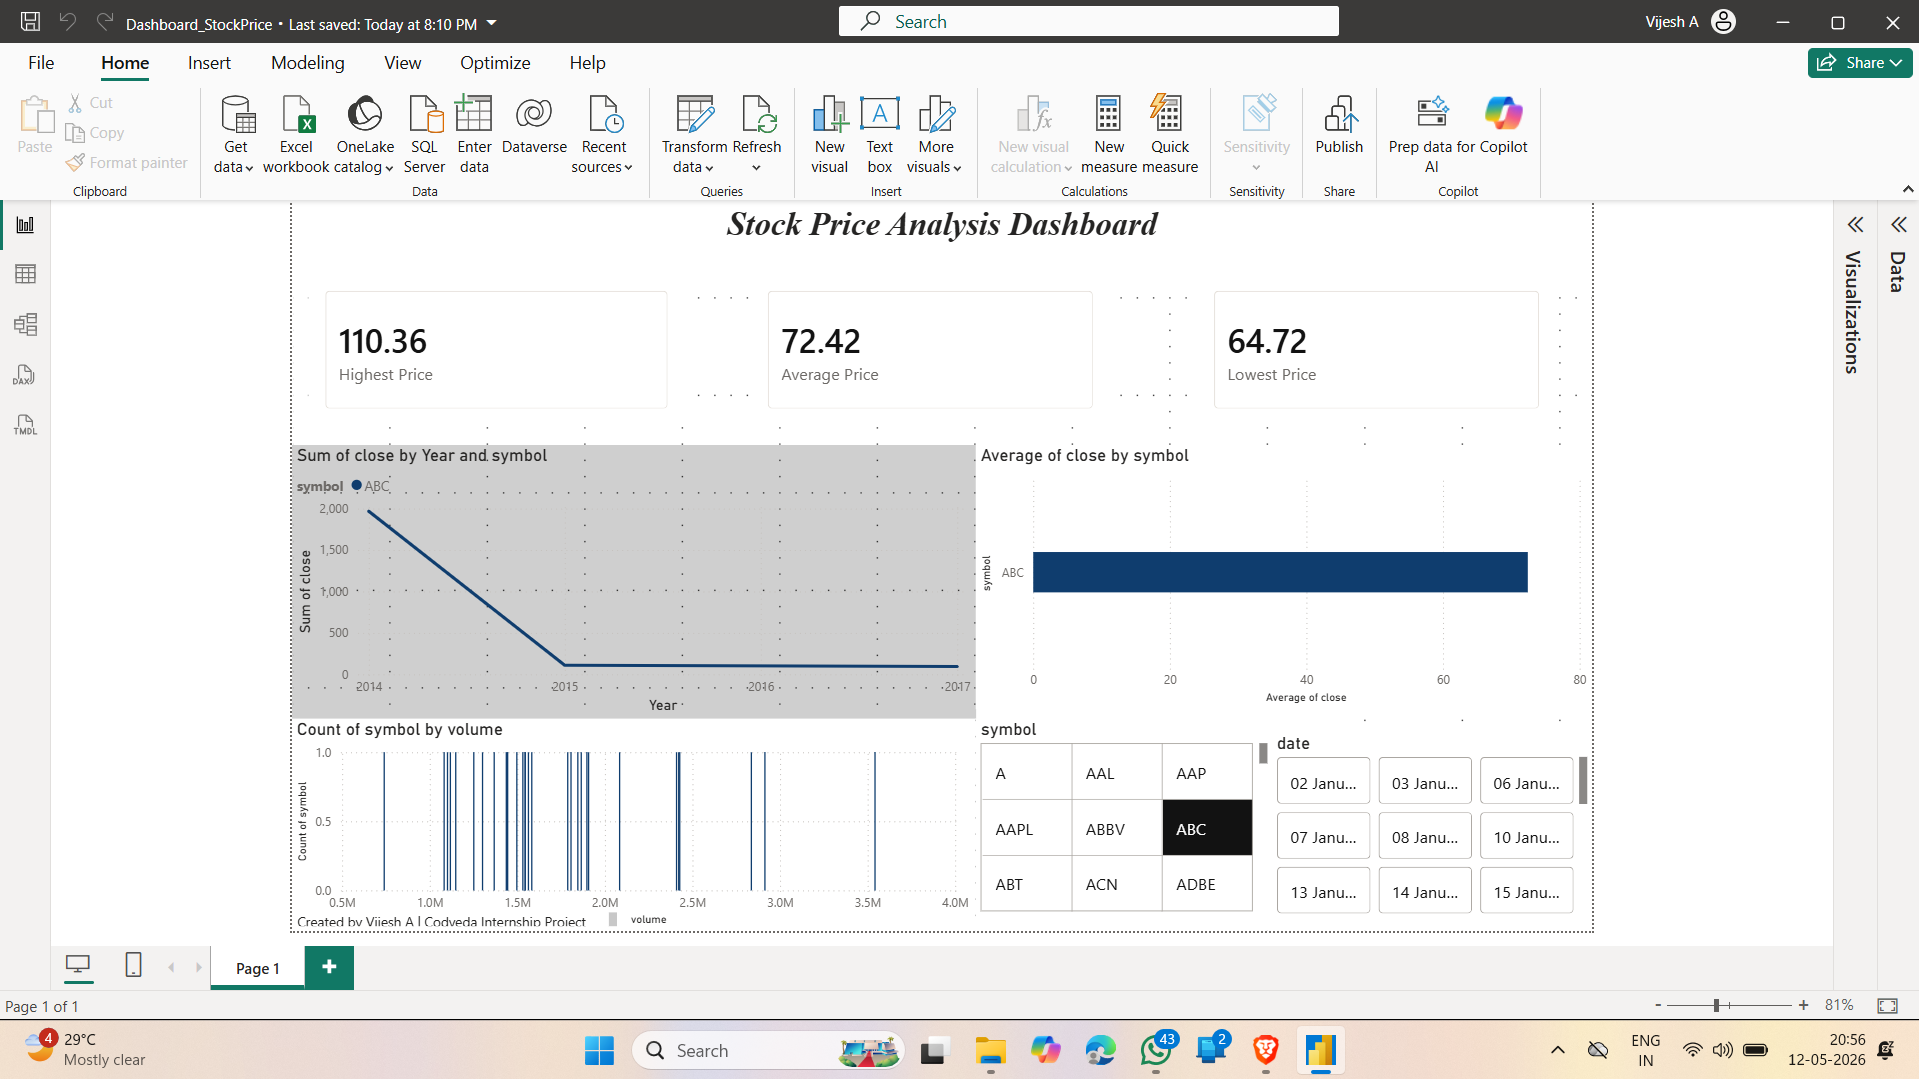

This screenshot's page, from the dashboard's own definition file:
{"tool":"powerbi","page":{"name":"Page 1","canvas":[1280,720],"ordinal":0},"visuals":[{"type":"lineChart","fields":{"Category":["Stock Prices Data Set.date.Variation.Date Hierarchy.Year","Stock Prices Data Set.date.Variation.Date Hierarchy.Quarter","Stock Prices Data Set.date.Variation.Date Hierarchy.Month","Stock Prices Data Set.date.Variation.Date Hierarchy.Day"],"Y":["Sum(Stock Prices Data Set.close)"],"Series":["Stock Prices Data Set.symbol"]},"box":[0,241.2,673.2,269.5],"z":0},{"type":"barChart","fields":{"Category":["Stock Prices Data Set.symbol"],"Y":["Avg(Stock Prices Data Set.close)"]},"box":[673.2,241.2,606.8,259.7],"z":1000},{"type":"clusteredColumnChart","fields":{"Category":["Stock Prices Data Set.volume"],"Y":["CountNonNull(Stock Prices Data Set.symbol)"]},"box":[0,511,673,209],"z":2000},{"type":"cardVisual","fields":{"Data":["Stock Prices Data Set.Highest Price"]},"box":[16,72.6,371.7,150.2],"z":3000},{"type":"cardVisual","fields":{"Data":["Stock Prices Data Set.Average Price"]},"box":[451.7,72.6,354.5,150.2],"z":4000},{"type":"cardVisual","fields":{"Data":["Stock Prices Data Set.Lowest Price"]},"box":[891.1,72.6,354.5,150.2],"z":5000},{"type":"advancedSlicerVisual","fields":{"Values":["Stock Prices Data Set.symbol"]},"box":[673,511,292,196],"z":6000},{"type":"advancedSlicerVisual","fields":{"Values":["Stock Prices Data Set.date"]},"box":[965,523.8,315,183.8],"z":7000},{"type":"textbox","box":[0,0,1280,88.8],"z":8000},{"type":"textbox","box":[0,696.2,325,23.8],"z":9000}]}

Visuals, with their boxes on the page's 1280x720 design canvas (x1, y1, x2, y2). These are canvas units, not pixel positions in the 1919x1079 screenshot, which may show the page scaled, cropped or inside an application window:
lineChart - Stock Prices Data Set.date.Variation.Date Hierarchy.Year x Stock Prices Data Set.date.Variation.Date Hierarchy.Quarter: (left=0, top=241, right=673, bottom=511)
barChart - Stock Prices Data Set.symbol x Avg(Stock Prices Data Set.close): (left=673, top=241, right=1280, bottom=501)
clusteredColumnChart - Stock Prices Data Set.volume x CountNonNull(Stock Prices Data Set.symbol): (left=0, top=511, right=673, bottom=720)
cardVisual - Stock Prices Data Set.Highest Price: (left=16, top=73, right=388, bottom=223)
cardVisual - Stock Prices Data Set.Average Price: (left=452, top=73, right=806, bottom=223)
cardVisual - Stock Prices Data Set.Lowest Price: (left=891, top=73, right=1246, bottom=223)
advancedSlicerVisual - Stock Prices Data Set.symbol: (left=673, top=511, right=965, bottom=707)
advancedSlicerVisual - Stock Prices Data Set.date: (left=965, top=524, right=1280, bottom=708)
textbox: (left=0, top=0, right=1280, bottom=89)
textbox: (left=0, top=696, right=325, bottom=720)
